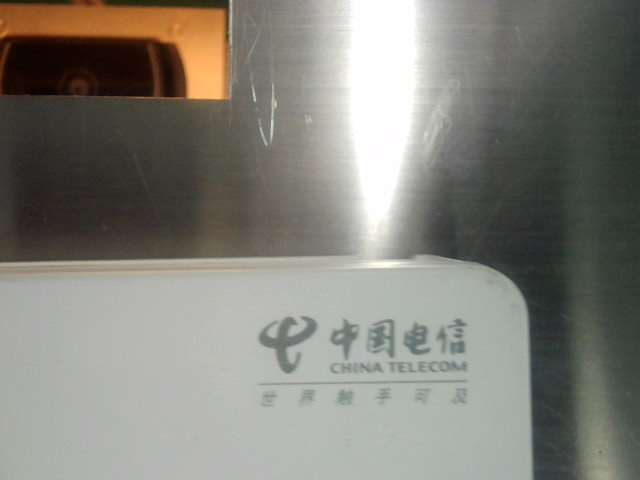AB_ChinaTelecom: (246, 309, 488, 419)
